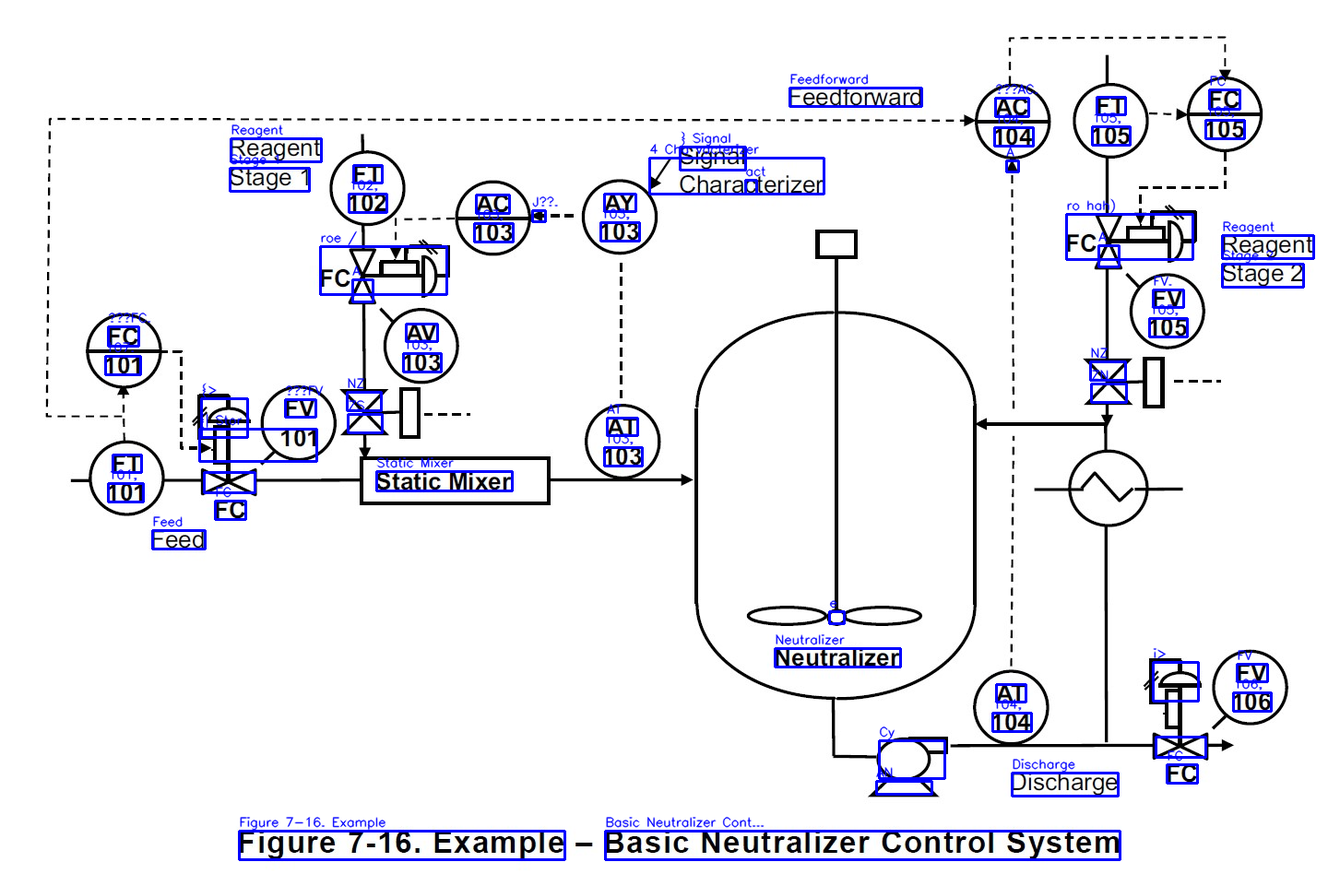Instrumento: (1181, 73, 1265, 155), (1071, 79, 1151, 165), (971, 81, 1054, 163), (968, 667, 1050, 749), (326, 148, 408, 229), (83, 310, 164, 391), (582, 401, 663, 481), (87, 438, 167, 517), (452, 180, 535, 256)
Misturador: (696, 221, 978, 703)
Turbina: (863, 728, 955, 800)
Válvula: (1211, 647, 1293, 726), (1147, 667, 1211, 766), (259, 384, 338, 463), (1127, 273, 1209, 349), (1092, 209, 1188, 273), (382, 308, 461, 385), (196, 405, 260, 500), (346, 246, 444, 307), (337, 383, 425, 443), (1081, 354, 1168, 411)
